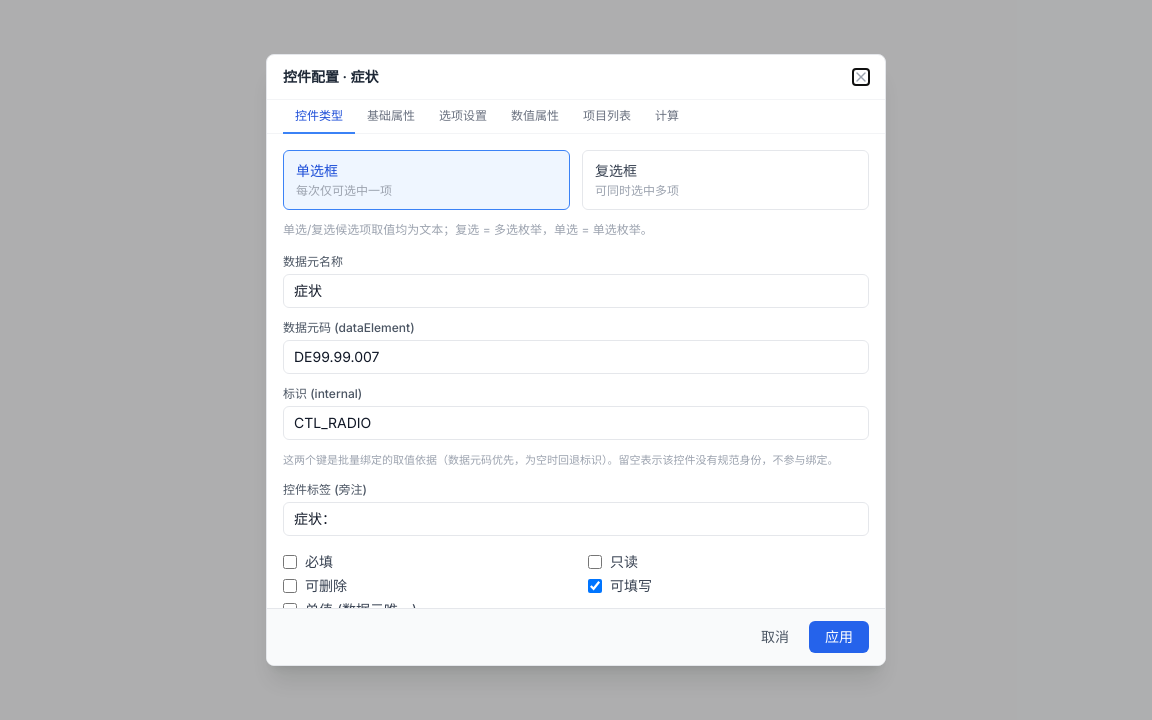
it: ControlChoiceDialog — 计算 (契约 §12.12.9) › 触发式公式 (SHOW/HIDE) 在这里同样写得下 —— 它与取值式共用一条判据
The width and height of the screenshot is (1152, 720).
Click the tab "计算" at [667, 117], box [643,100,691,134]
(page scrolled)
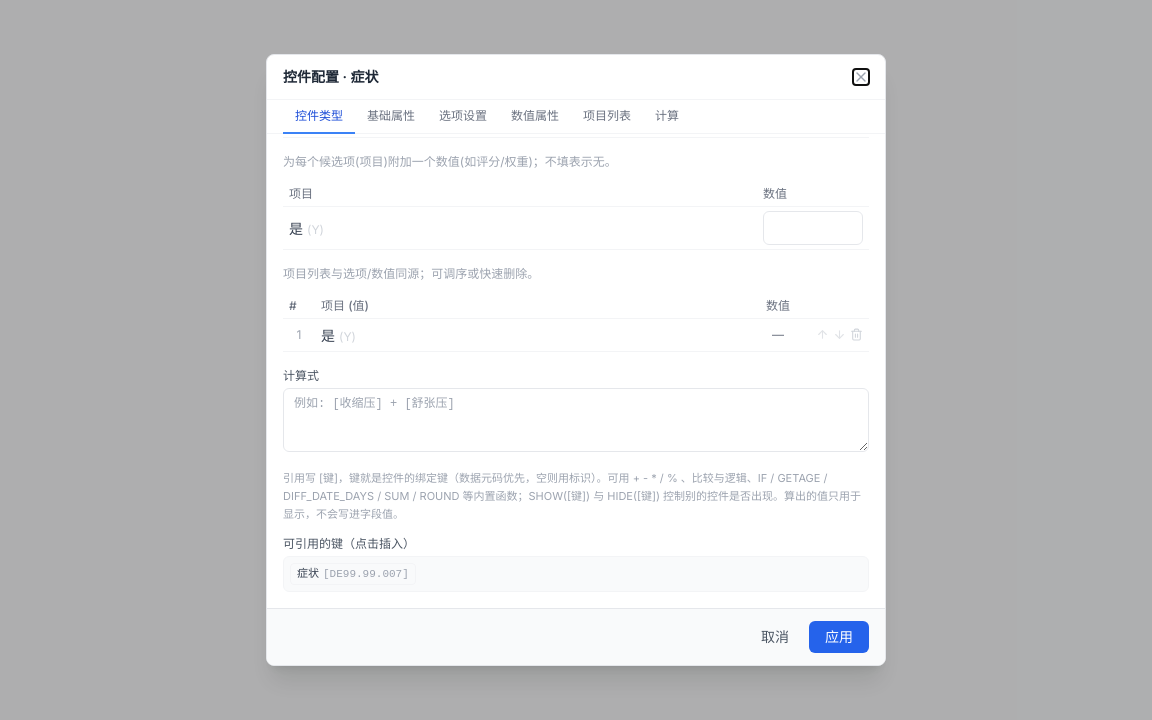
Type "HIDE([DE99.99.007])" into the text box with placeholder "例如: [收缩压] + [舒张压]" at [576, 420], box [283,388,869,452]
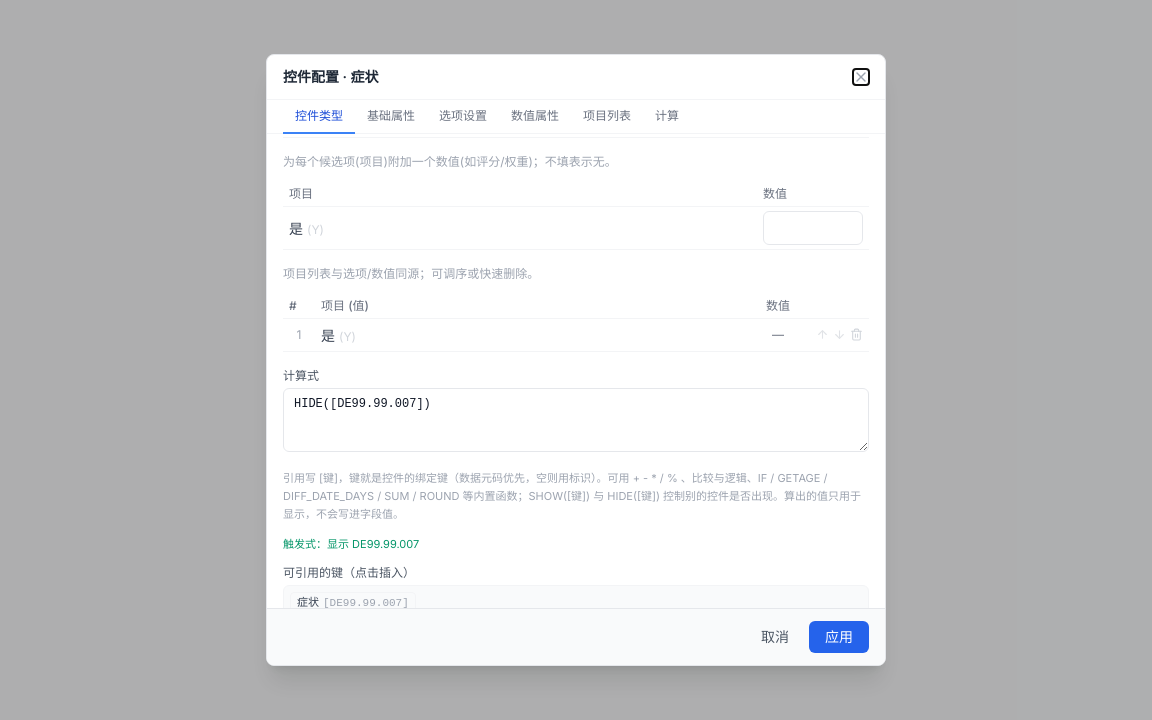
expect the text "触发式：显示 DE99.99.007" is shown: met, box [283,536,419,550]
